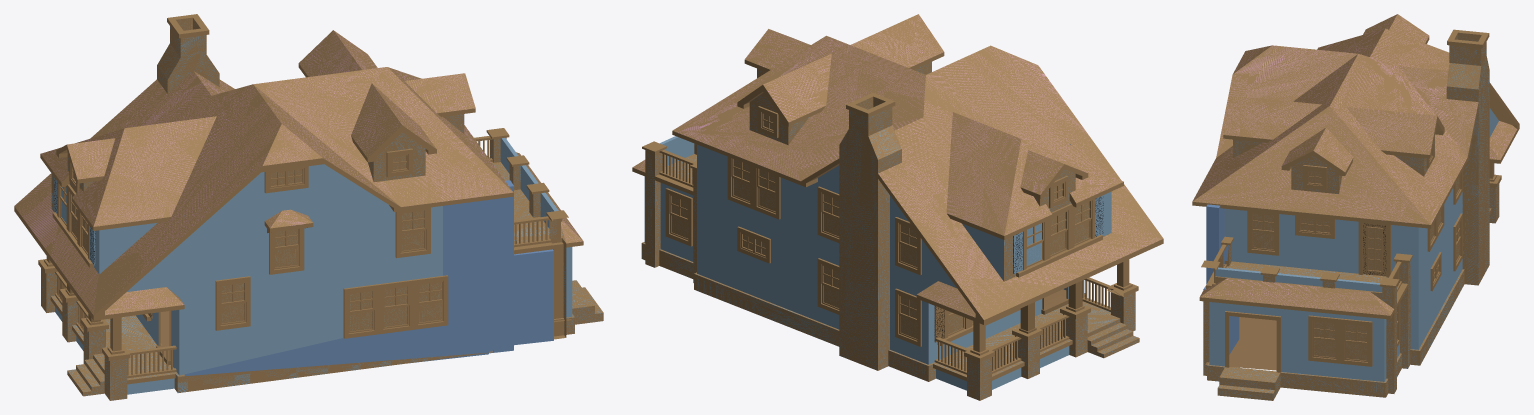
The model's file is MiniHouse.fbx.
3 views of the same model, side by side, from view 1: azimuth 30°, elevation 25°; view 2: azimuth 150°, elevation 25°; view 3: azimuth 270°, elevation 25° (orthographic). The views are drawn at different scales.
Parts seen in each view (by area): view 1: Group1, pCube2, pCube3 (×2); view 2: Group1; view 3: Group1, pPlane1, pCube3 (×2).
Part boxes in pixels (box(x1,y1,x2,y2)): Group1: box(14, 14, 603, 400); pCube2: box(184, 200, 488, 376); pCube3 (×2): box(489, 180, 553, 353); Group1: box(632, 14, 1163, 400); Group1: box(1192, 14, 1519, 400); pPlane1: box(1205, 317, 1276, 370); pCube3 (×2): box(1203, 204, 1239, 366).
Bounding box in the file's own units: 745 × 386 × 481.
